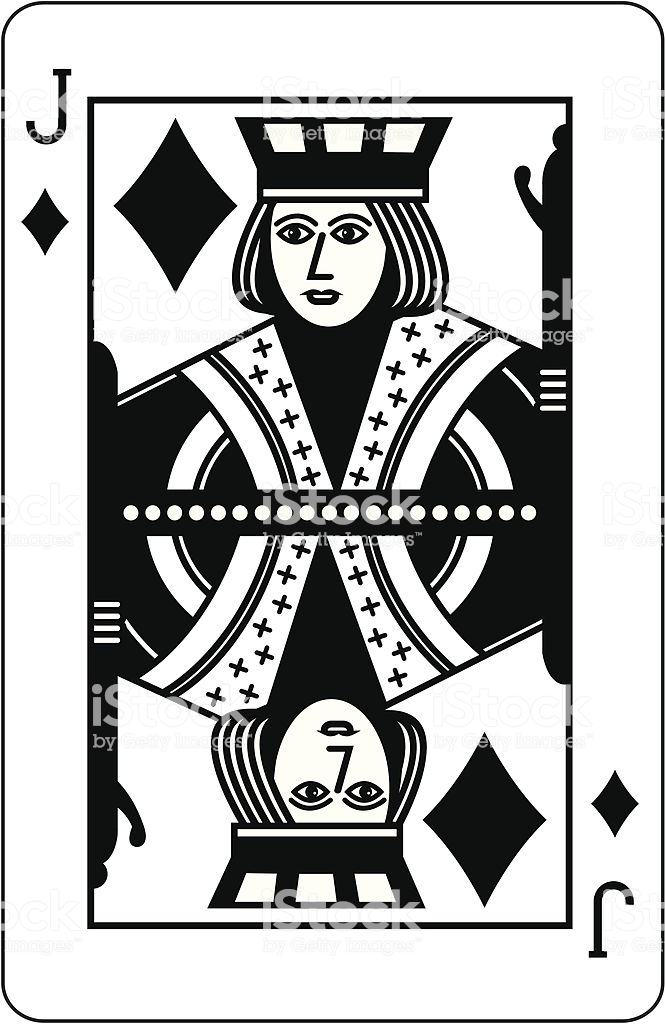jack of diamonds: (17, 48, 649, 983)
